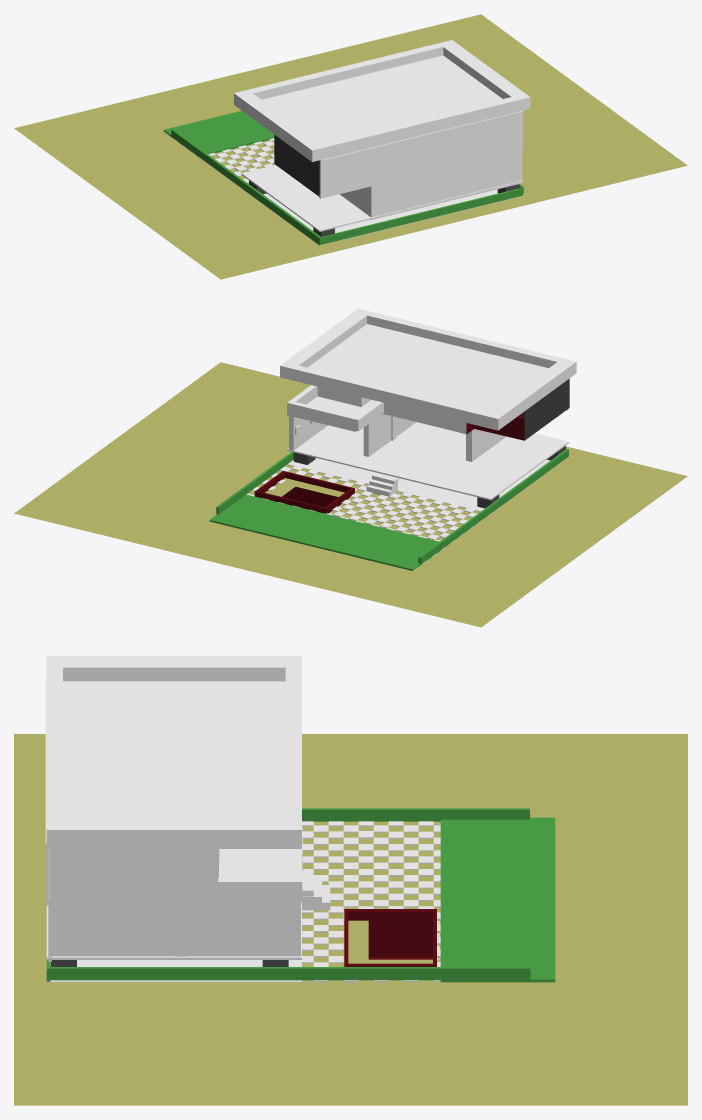
The model's file is building.glb.
The picture shows the model from 3 angles, top to bottom: view 1: azimuth 30°, elevation 25°; view 2: azimuth 150°, elevation 25°; view 3: azimuth 270°, elevation 25°; orthographic projection. The views are drawn at different scales.
Parts seen in each view (by area): view 1: Cube.041; view 2: Cube.041; view 3: Cube.041.
Boxes of the visible parts, box(x1,y1,x2,y2) form: Cube.041: box(14, 14, 687, 279); Cube.041: box(14, 308, 687, 627); Cube.041: box(14, 656, 687, 1105).
Bounding box in the file's own units: 180 × 51.64 × 138.
